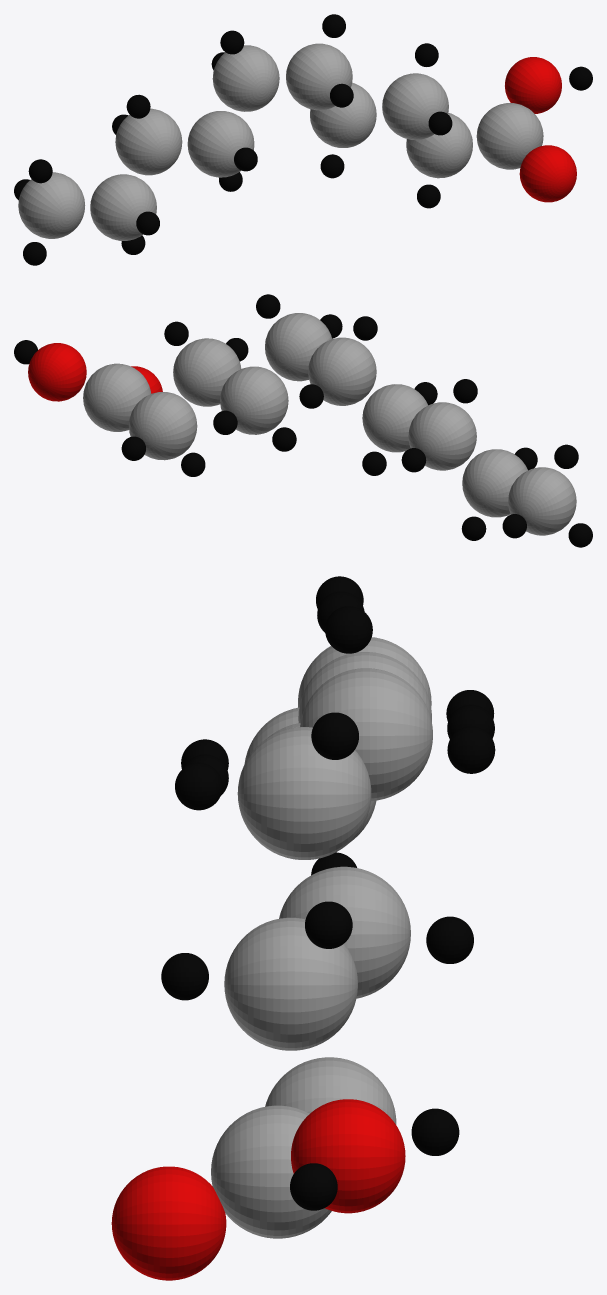
File: Lauric Acid.glb
The picture shows the model from 3 angles, top to bottom: view 1: azimuth 30°, elevation 25°; view 2: azimuth 150°, elevation 25°; view 3: azimuth 270°, elevation 25°; orthographic projection. The views are drawn at different scales.
Visible parts, largest first — view 1: world; view 2: world; view 3: world.
Boxes of the visible parts, bbox=[...] form: world: bbox=[14, 14, 592, 265]; world: bbox=[14, 294, 592, 547]; world: bbox=[111, 576, 495, 1280].
Size of the model in its own units: 13.64 by 4.84 by 4.01.
